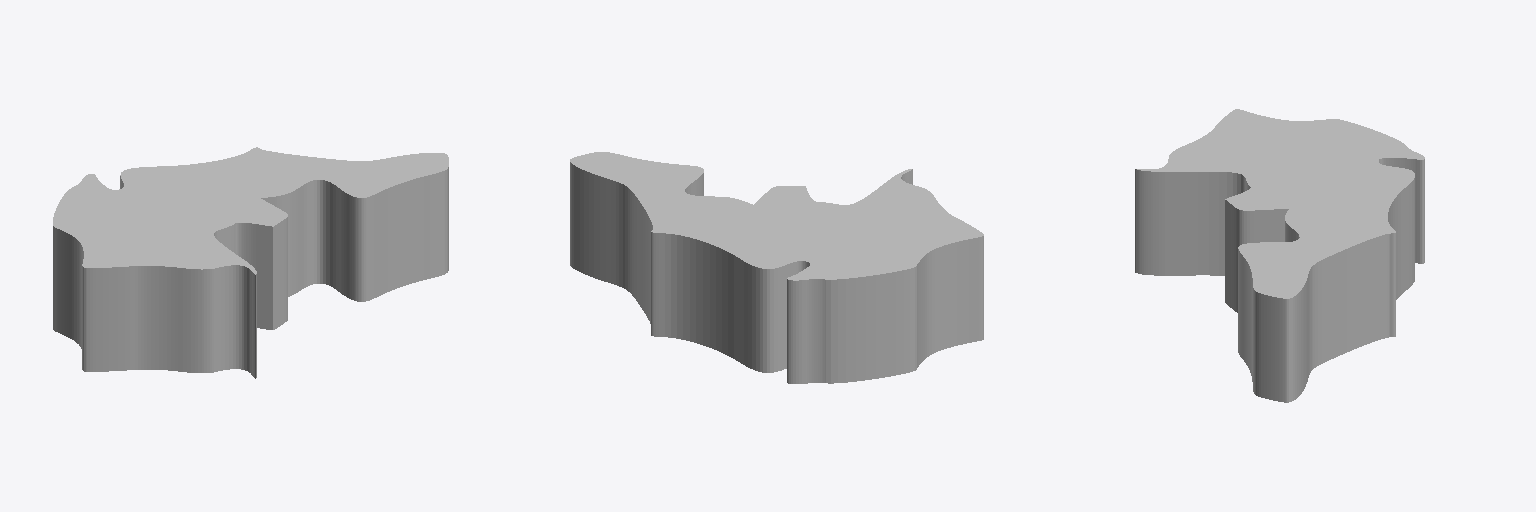
Rendered from South_America_04.obj.
The picture shows the model from 3 angles: view 1: azimuth 30°, elevation 25°; view 2: azimuth 150°, elevation 25°; view 3: azimuth 270°, elevation 25°; orthographic projection.
Visible parts, largest first — view 1: South_America_04_path4212; view 2: South_America_04_path4212; view 3: South_America_04_path4212.
Part boxes in pixels (x1,y1,x2,y2): South_America_04_path4212: (53, 147, 448, 378); South_America_04_path4212: (570, 152, 983, 383); South_America_04_path4212: (1135, 109, 1424, 402).
Size of the model in its own units: 0.3915 by 0.1 by 0.2531.